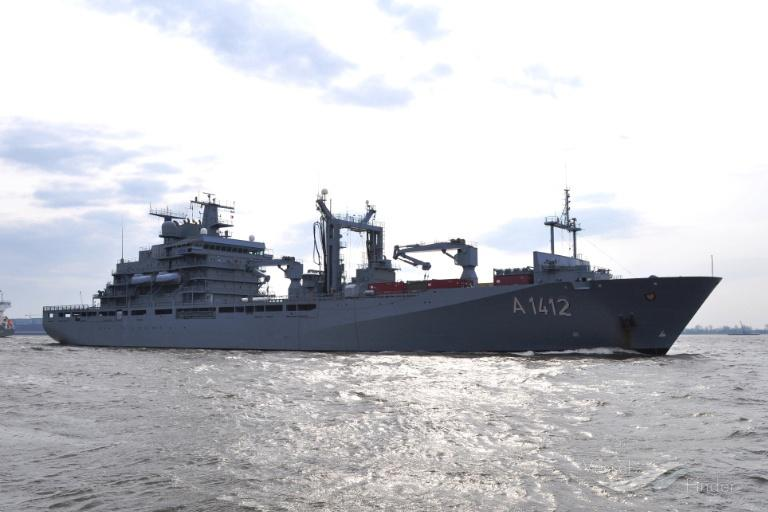OCR: (507, 290, 574, 323)
